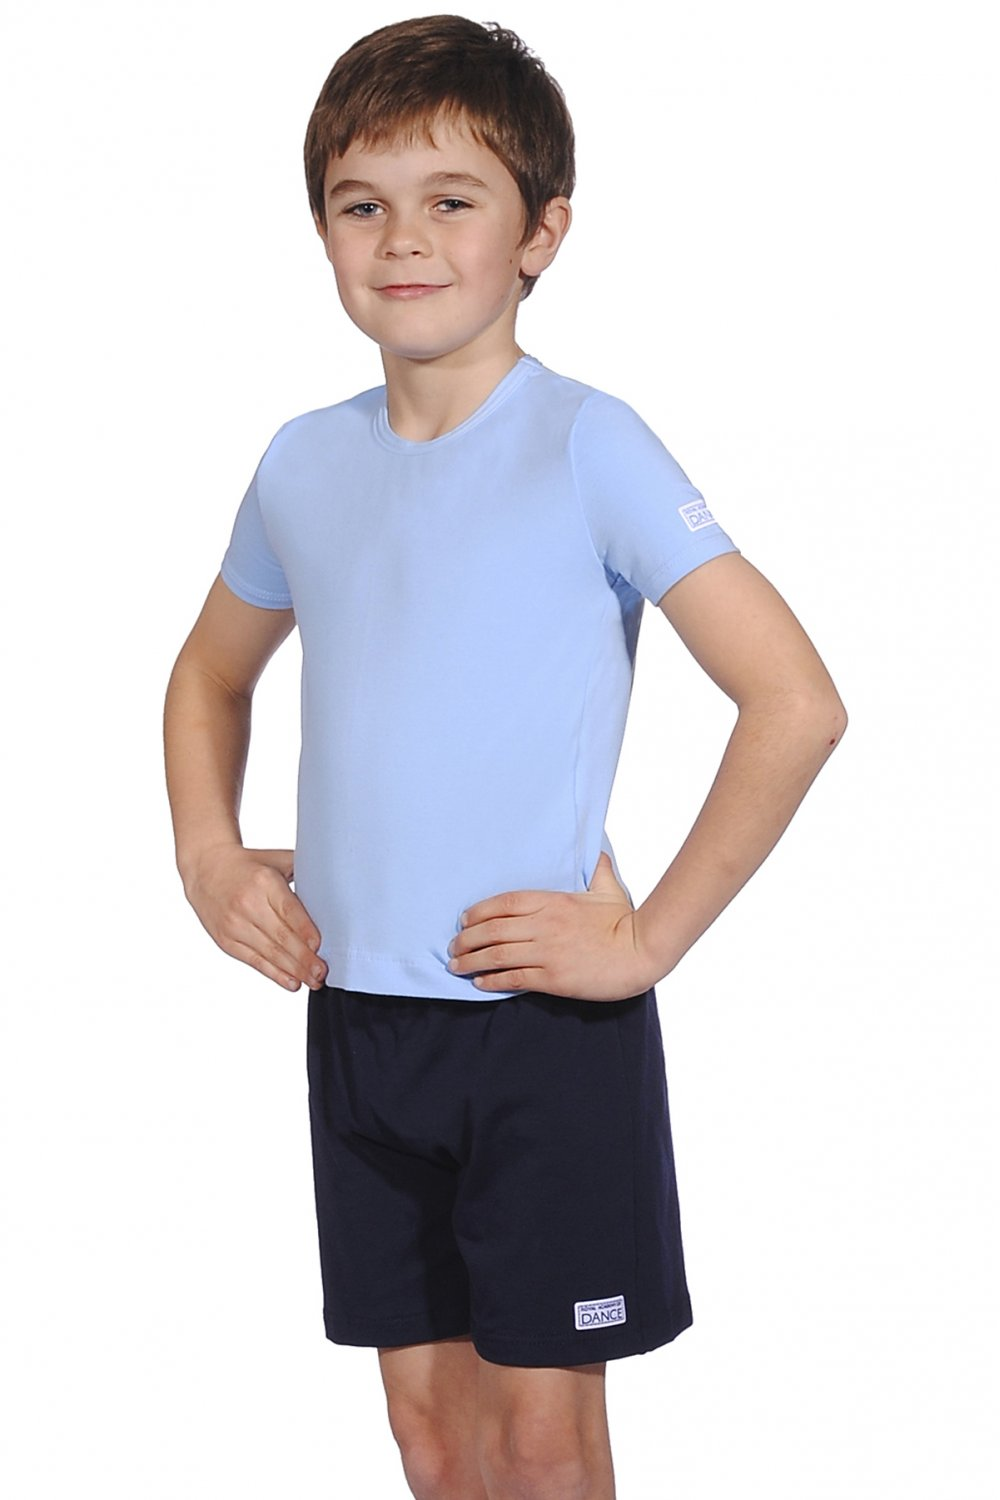BOY: (285, 8, 598, 342)
